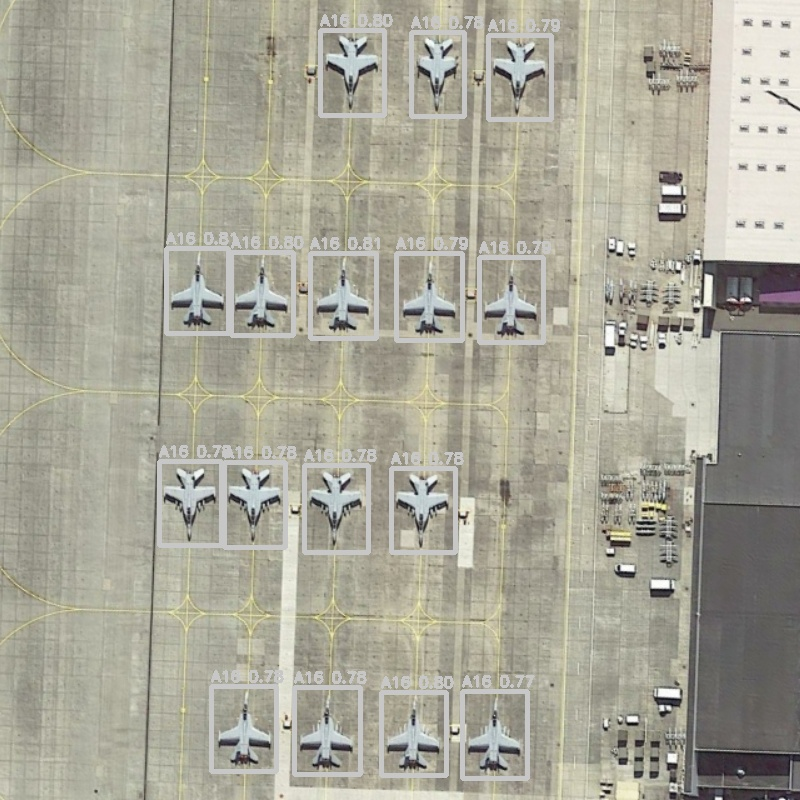A16: (396, 253, 462, 340), (294, 687, 360, 774), (462, 691, 527, 778), (310, 253, 376, 338), (304, 465, 368, 552), (211, 686, 276, 771), (320, 30, 384, 115), (479, 257, 543, 342), (381, 692, 446, 775), (391, 468, 455, 552), (488, 35, 551, 119), (166, 248, 228, 333), (159, 461, 221, 545), (224, 462, 285, 547), (231, 252, 293, 335), (411, 32, 464, 116)
